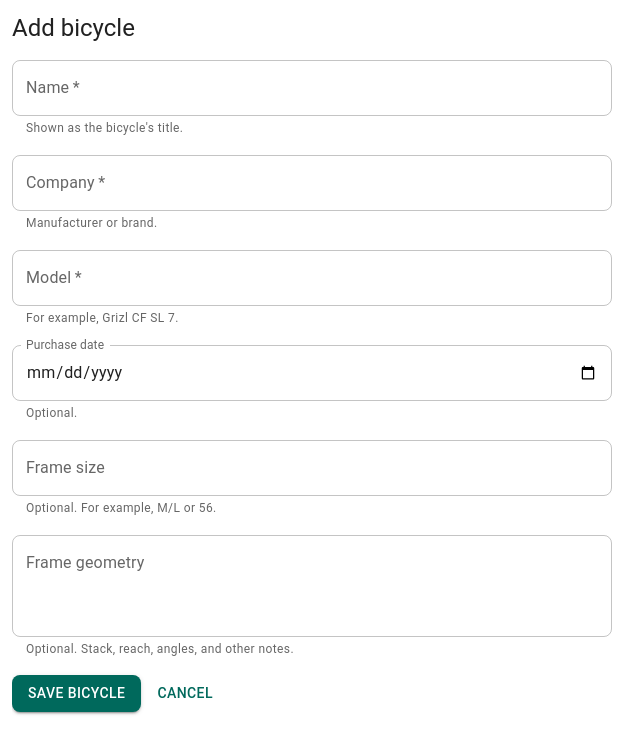
Test: AddBicycle › explains a name rejected as tooMany
The image size is (629, 732).
Click the button "Save bicycle" at (77, 694), box [12, 676, 141, 712]
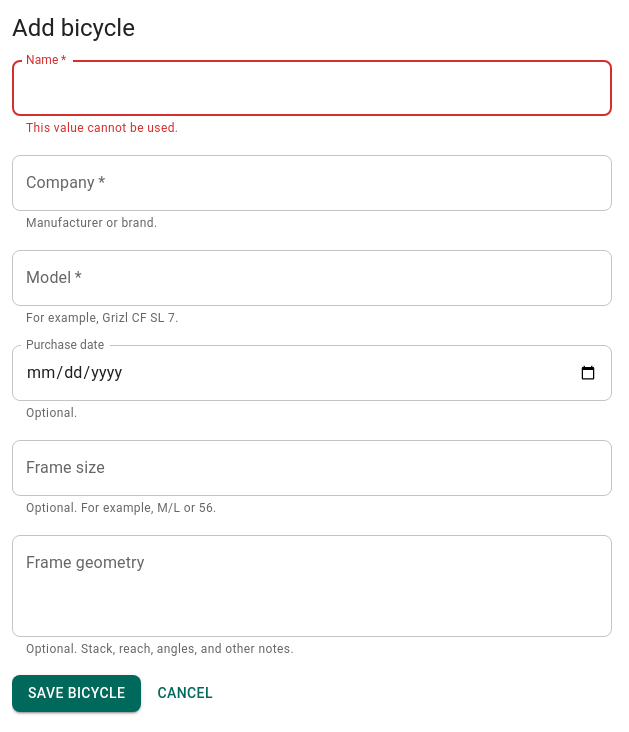
Check: the text "This value cannot be used." is shown, box [26, 121, 178, 135]
